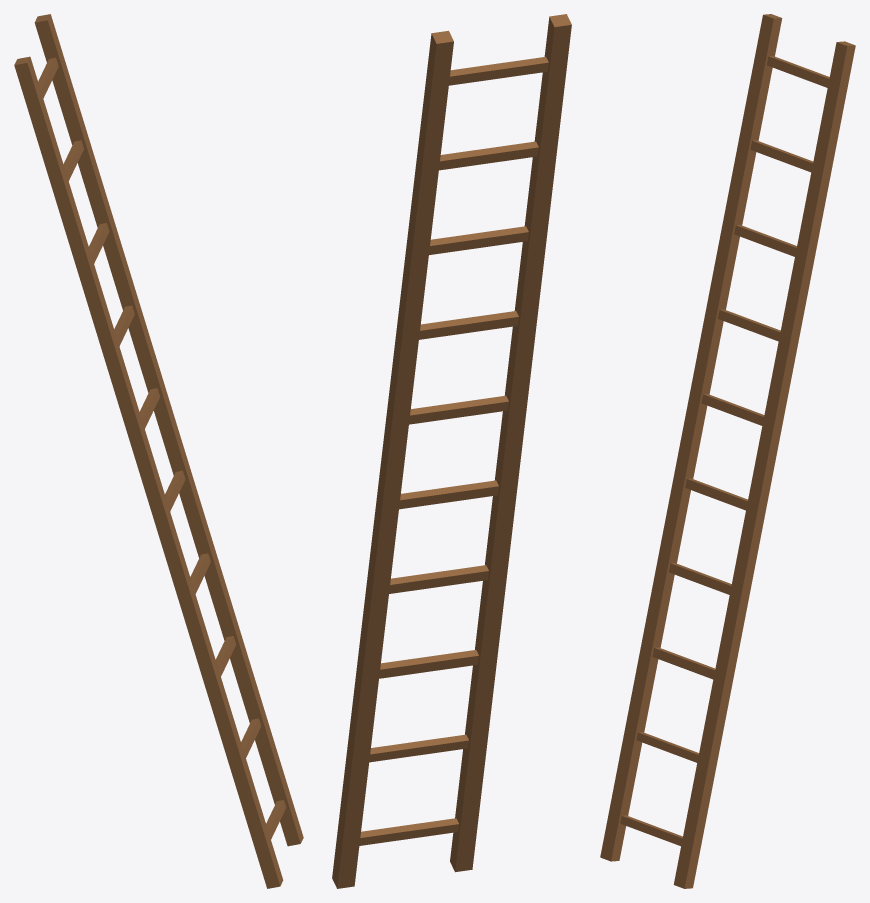
The model's file is SmallLadder.fbx.
3 views of the same model, side by side, from view 1: azimuth 30°, elevation 25°; view 2: azimuth 150°, elevation 25°; view 3: azimuth 270°, elevation 25° (orthographic). The views are drawn at different scales.
Visible parts, largest first — view 1: SmallLadder; view 2: SmallLadder; view 3: SmallLadder.
Part boxes in pixels (bbox=[...]): SmallLadder: bbox=[14, 14, 303, 888]; SmallLadder: bbox=[332, 14, 571, 888]; SmallLadder: bbox=[600, 14, 855, 888].
Bounding box in the file's own units: 19.63 × 61.96 × 18.69.
